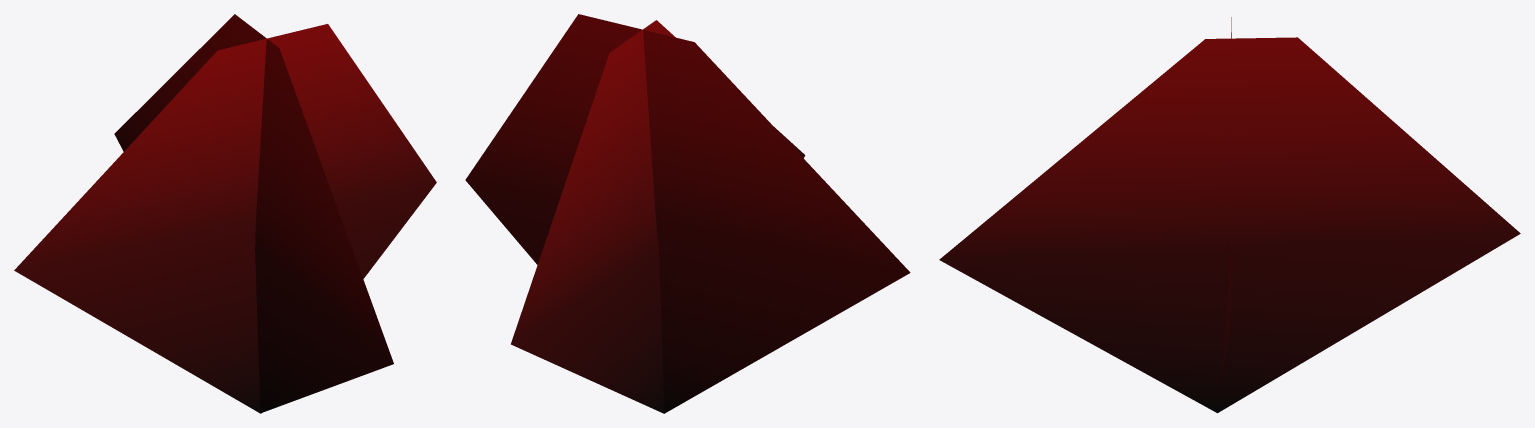
File: Greater Burdock_LOD6_Var3_xh5pdgiqx.fbx
3 views of the same model, side by side, from view 1: azimuth 30°, elevation 25°; view 2: azimuth 150°, elevation 25°; view 3: azimuth 270°, elevation 25° (orthographic). The views are drawn at different scales.
Parts seen in each view (by area): view 1: _z1nx_Var3_LOD6; view 2: _z1nx_Var3_LOD6; view 3: _z1nx_Var3_LOD6.
Part boxes in pixels (x1=…): _z1nx_Var3_LOD6: x1=14, y1=14, x2=436, y2=413; _z1nx_Var3_LOD6: x1=465, y1=14, x2=910, y2=413; _z1nx_Var3_LOD6: x1=939, y1=17, x2=1520, y2=413.
Size of the model in its own units: 72.19 by 60.09 by 82.74.
